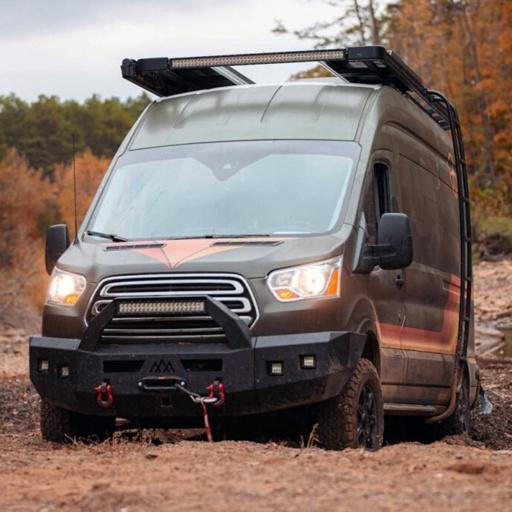van: (30, 44, 468, 454)
